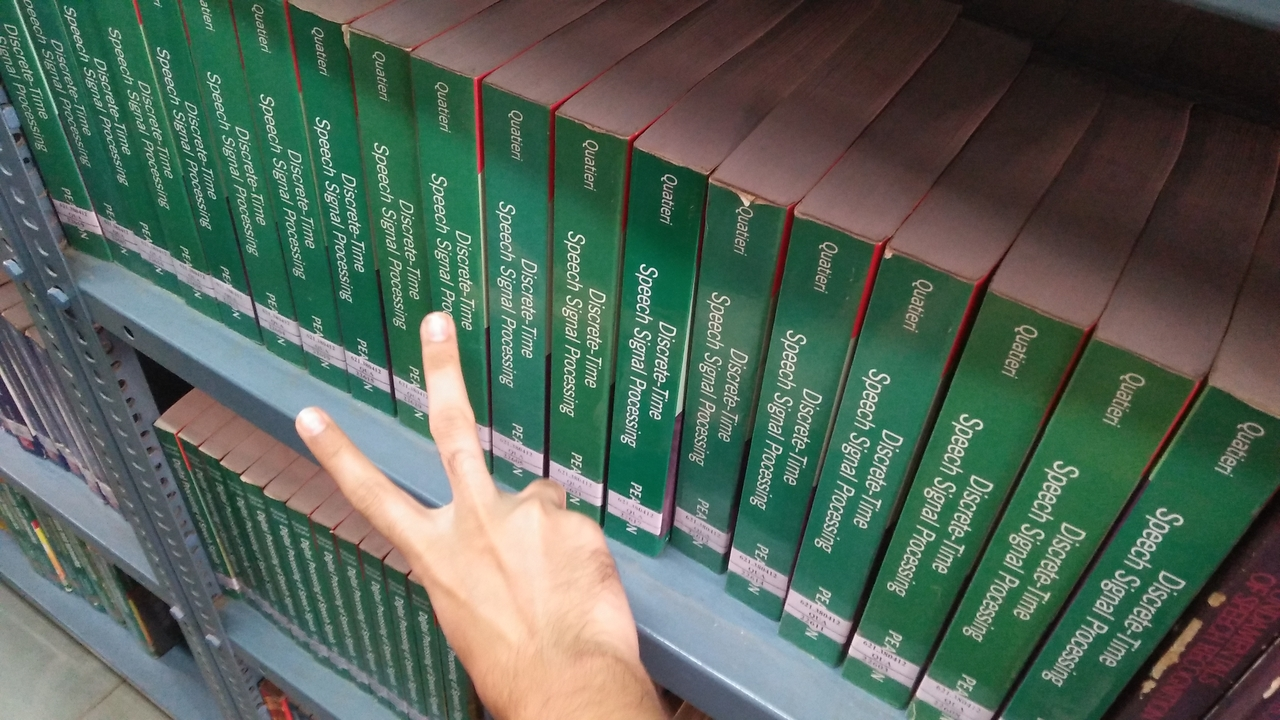fingertip: (280, 400, 348, 460), (410, 304, 462, 356)
